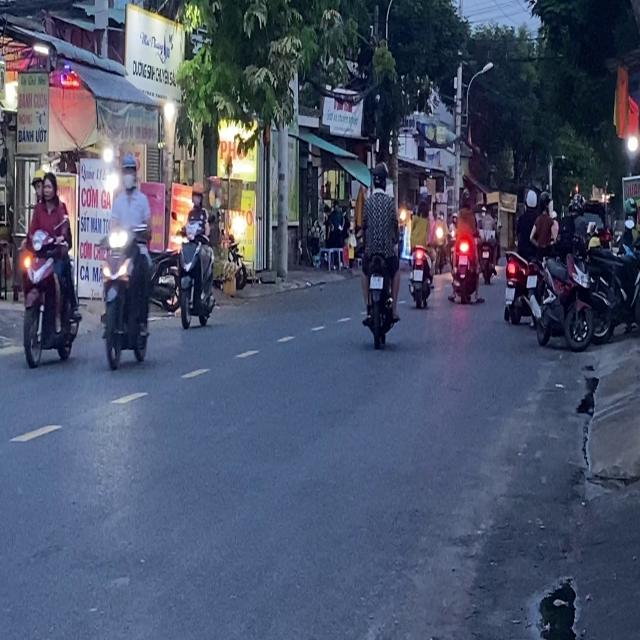helmet: (119, 153, 138, 190), (371, 161, 388, 190), (190, 181, 203, 206)
licenseplate: (98, 152, 156, 372), (19, 166, 81, 369), (358, 160, 402, 346), (176, 180, 217, 330)
motorcyclist: (40, 168, 58, 202)
nohelmet: (370, 275, 382, 289)
